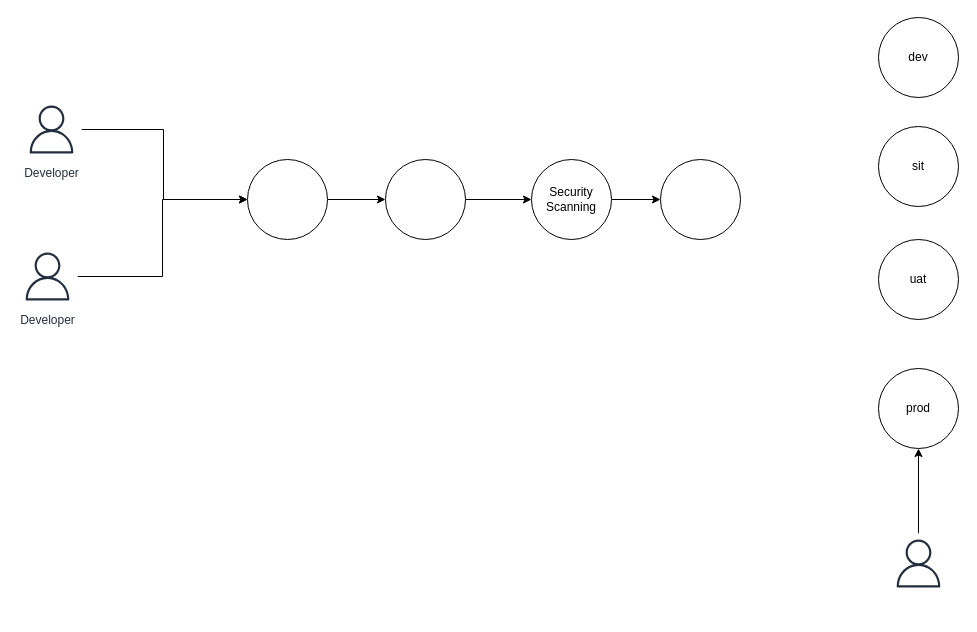
Some shapes in this 977 by 632 pixel diagram are drawn without their labels. Each missing label, with the centre of its shape:
"Build" goes at point (425, 199).
"End Customers" goes at point (918, 563).
"Git (SCM)" goes at point (287, 199).
"Performance Testing" goes at point (700, 199).
